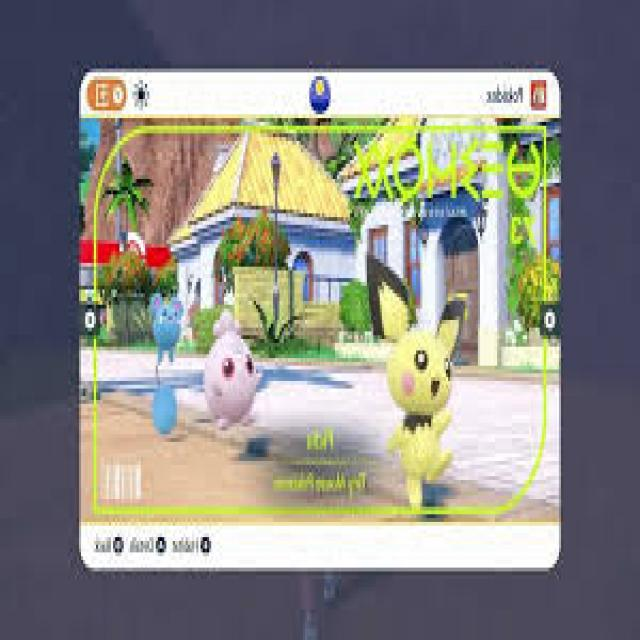pichu: (374, 258, 466, 499)
